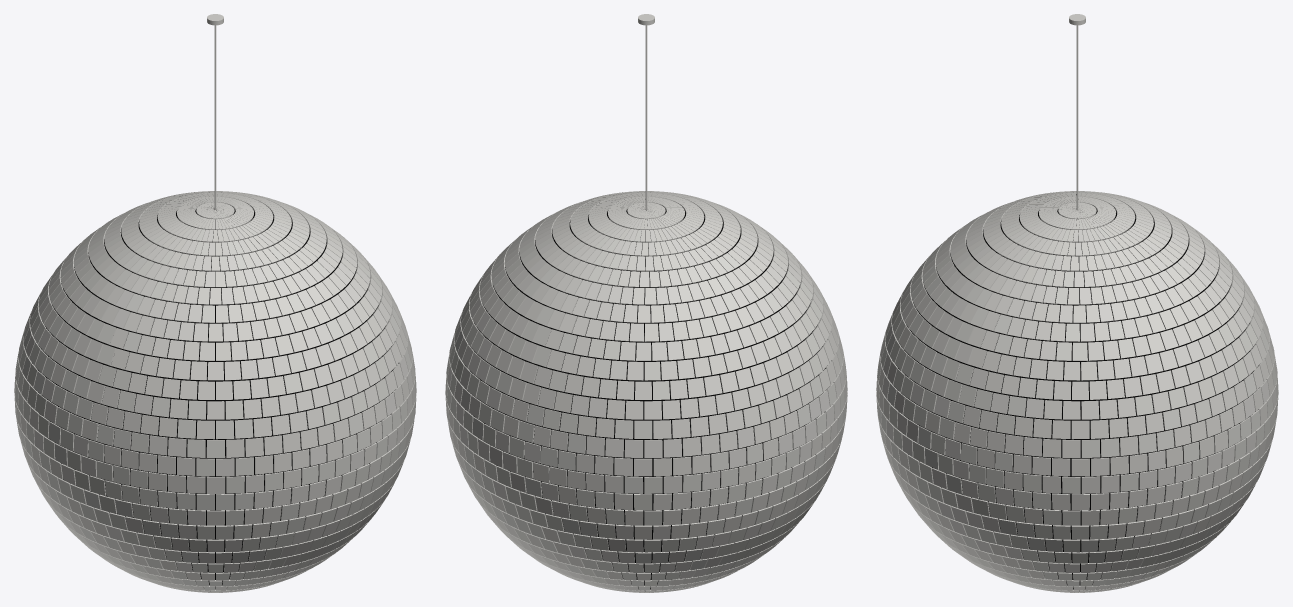
The model's file is disco_ball_animated.glb.
3 renders of one model, left to right at view 1: azimuth 30°, elevation 25°; view 2: azimuth 150°, elevation 25°; view 3: azimuth 270°, elevation 25°, orthographic.
Parts seen in each view (by area): view 1: disco_ball; view 2: disco_ball; view 3: disco_ball.
Boxes of the visible parts, <box> form: disco_ball: <box>14,14,416,592</box>; disco_ball: <box>445,14,847,592</box>; disco_ball: <box>876,14,1278,592</box>.
Size of the model in its own units: 120 by 183 by 120.
Materials: 2 (2 with a texture image).
